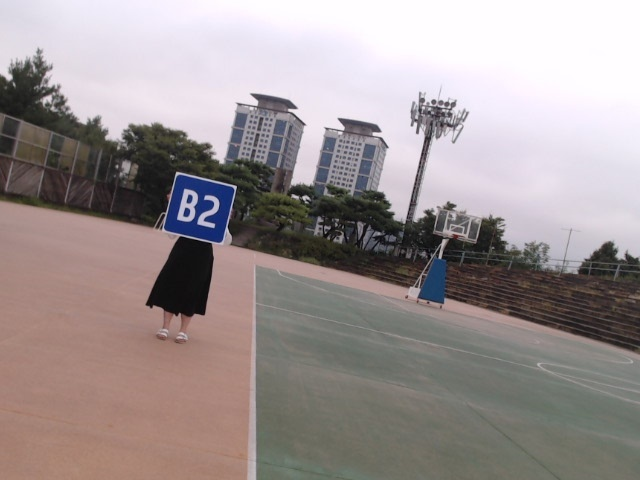delivery_b2: (163, 172, 236, 244)
